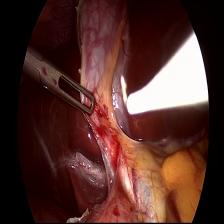Grasper: (26, 47, 96, 116)
Hook: (118, 35, 210, 124)
